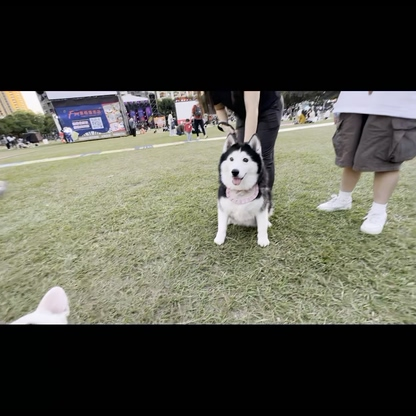husky: (210, 131, 276, 249)
